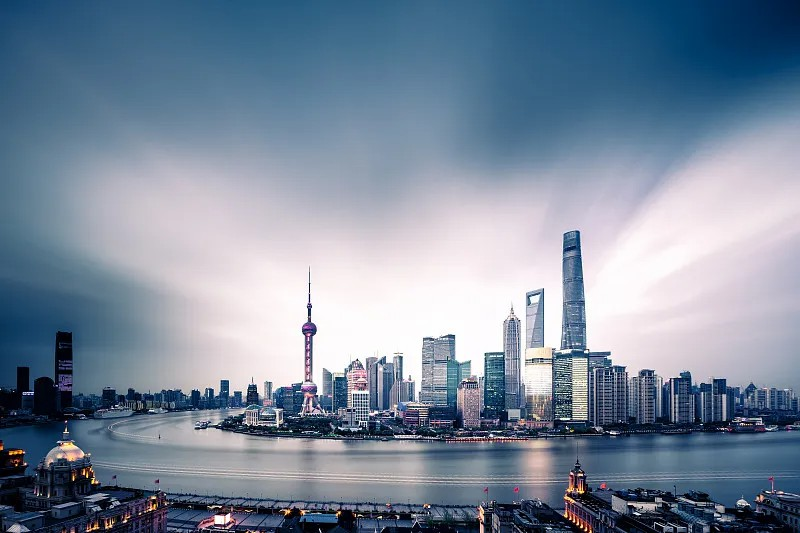Oriental: (298, 267, 323, 415)
